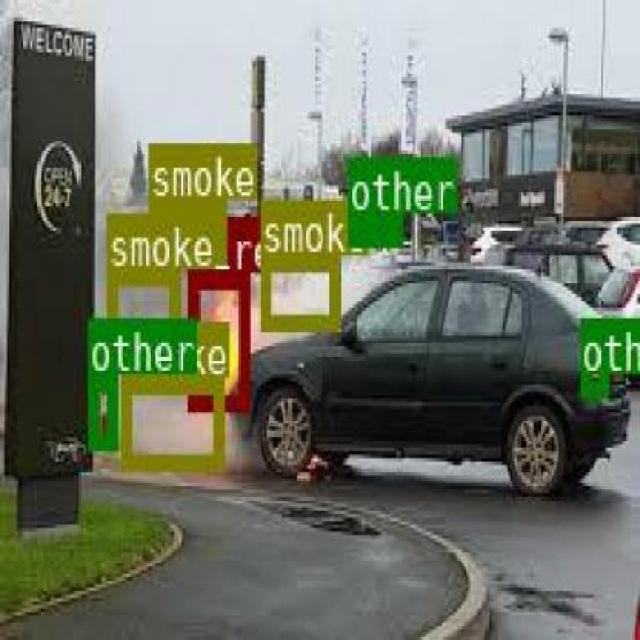Fire: (186, 270, 248, 407)
Smoke: (118, 374, 222, 466), (104, 268, 178, 359), (258, 252, 338, 328), (148, 198, 225, 262)
